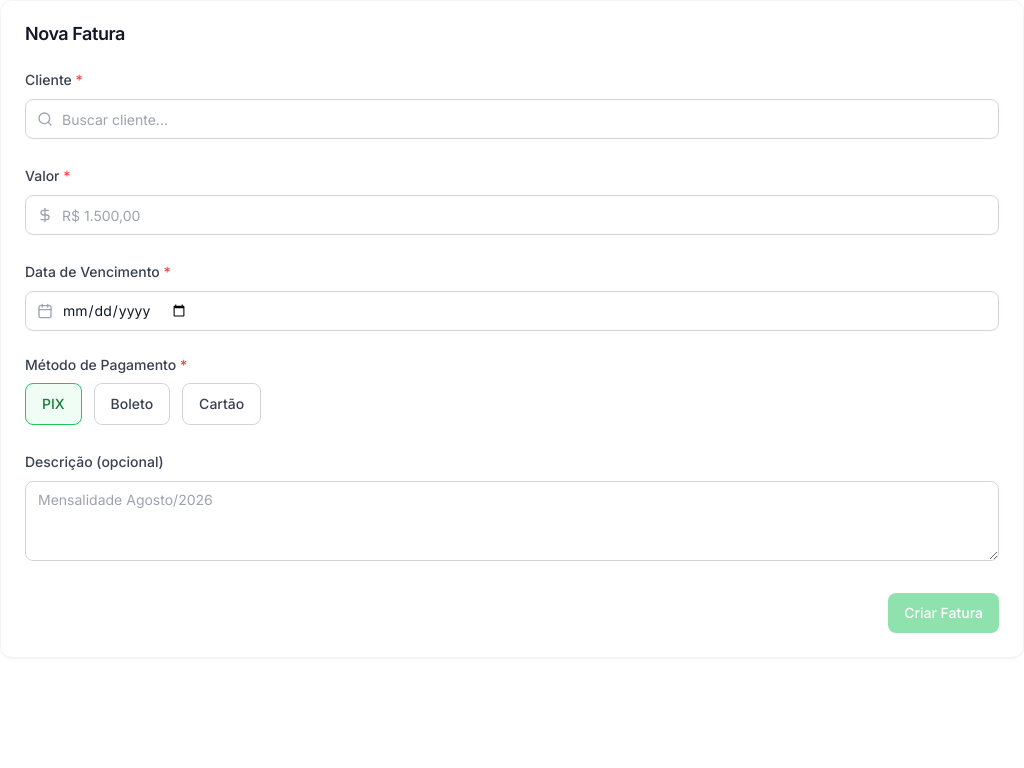
Scenario: InvoiceForm › validação › deve habilitar botão de submit quando formulário é válido
# Selecionar cliente
Type "João" into the dropdown with placeholder "Buscar cliente...". click: coordinates (512, 119)
box: [25,99,999,139]
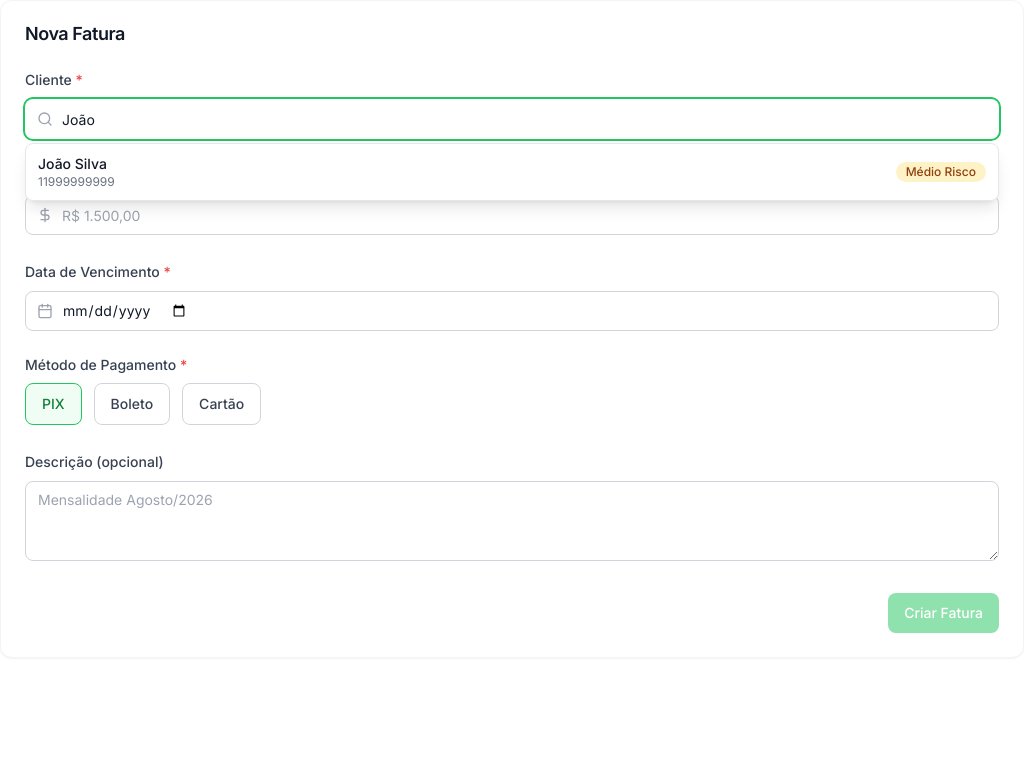
Click the text "João Silva". click: coordinates (72, 164)
box: [38,155,107,172]
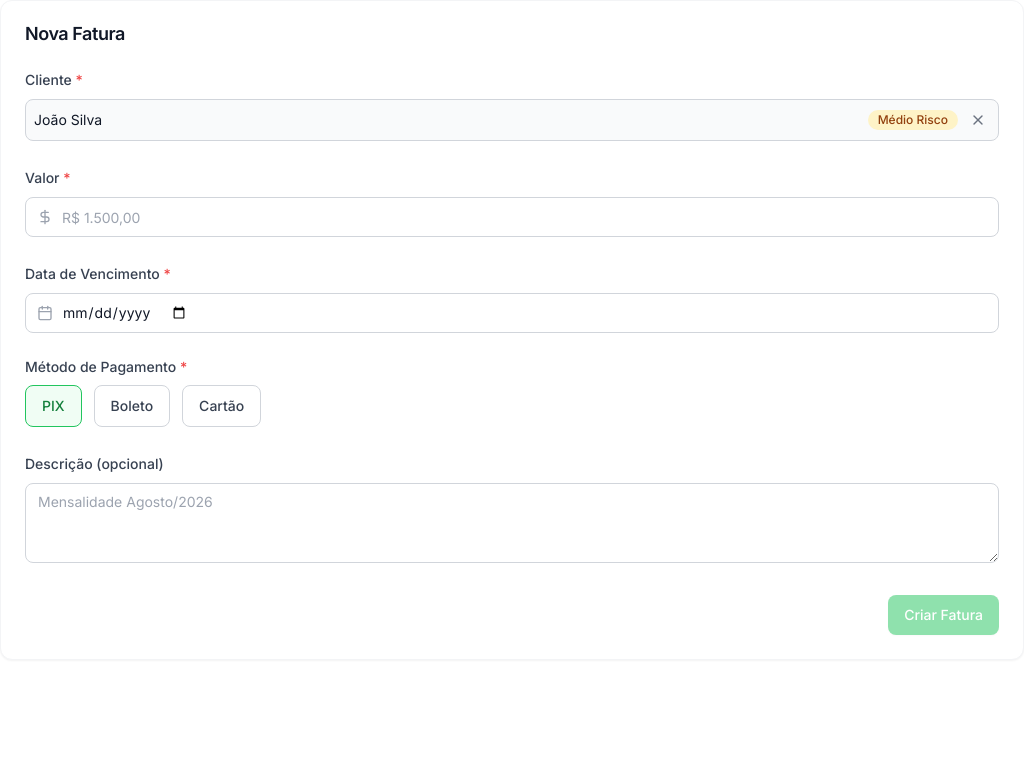
# Preencher valor
Type "1500" into the field with placeholder "R$ 1.500,00". click: coordinates (512, 217)
box: [25,197,999,237]
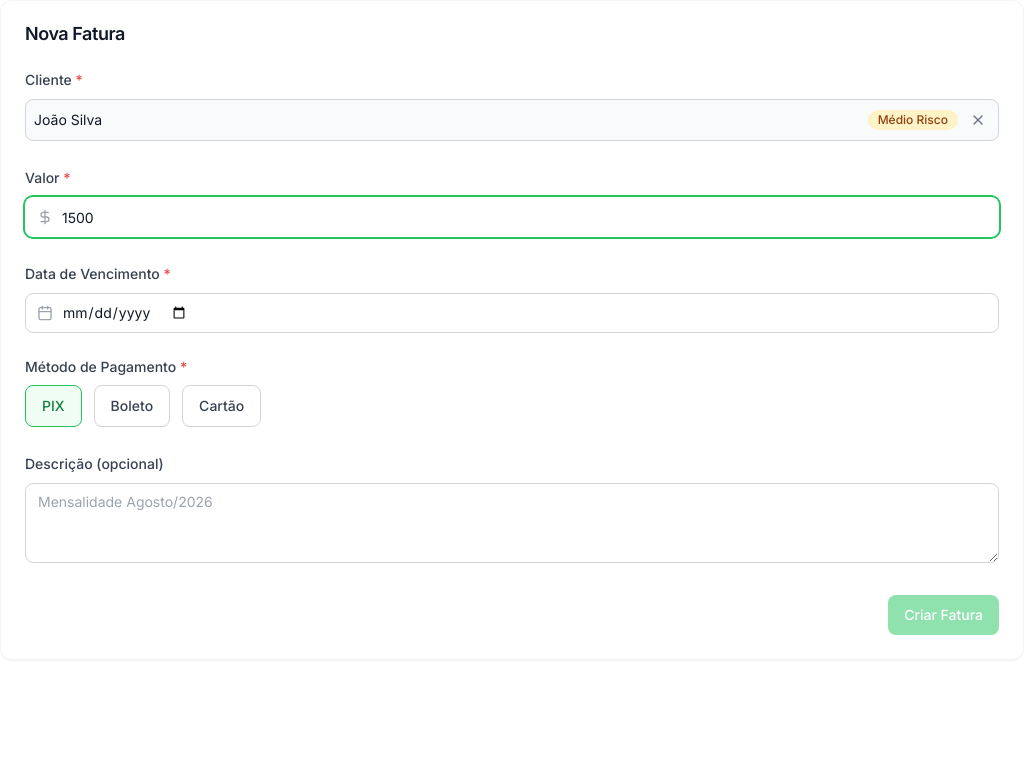
# Preencher data
Type "2026-08-30" into the date field labelled "Data de Vencimento *". click: coordinates (512, 313)
box: [25,293,999,333]
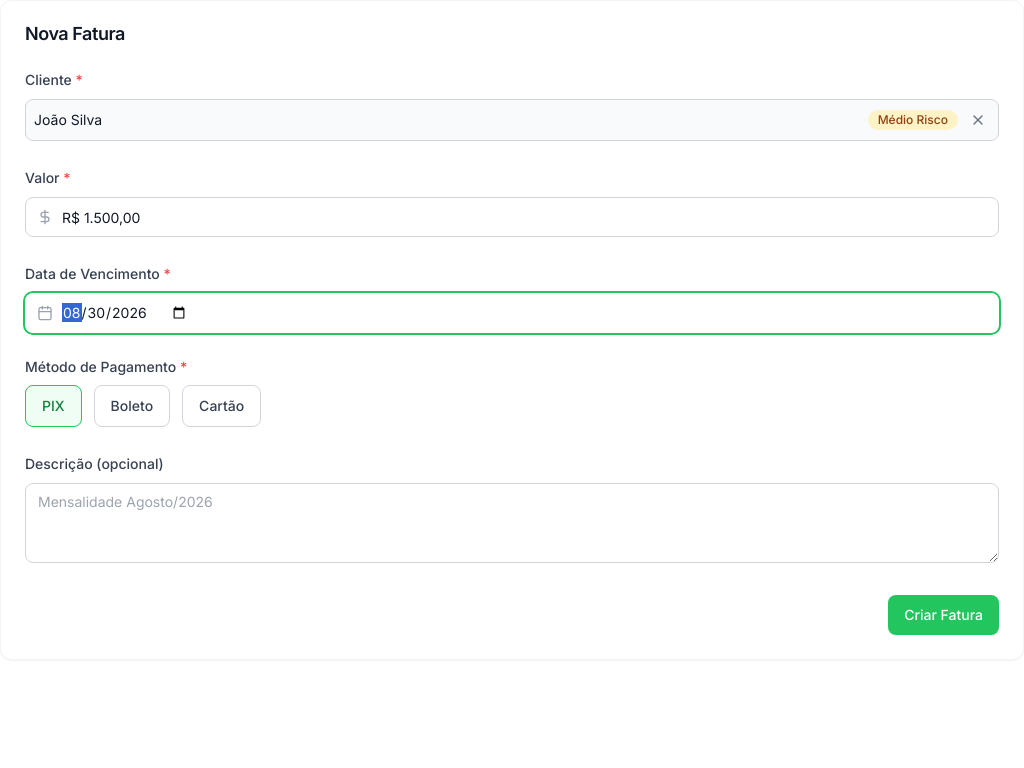
Expected: the button "Criar Fatura" is enabled, [888,595,999,635]
